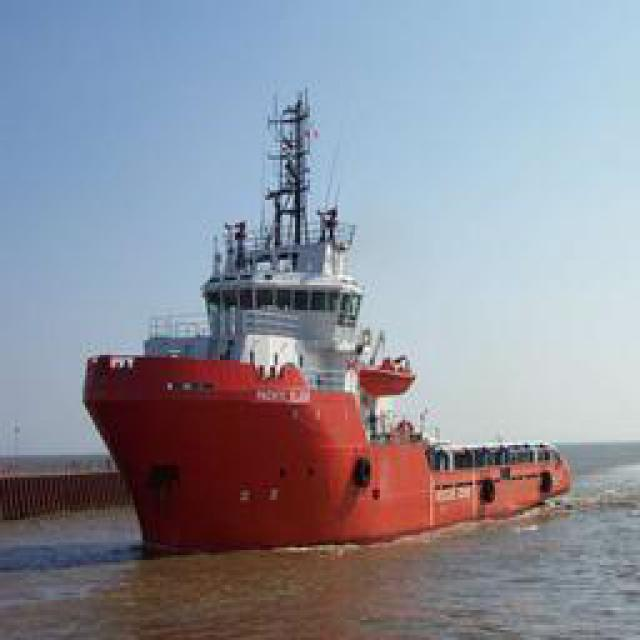Ship: (79, 53, 562, 548)
